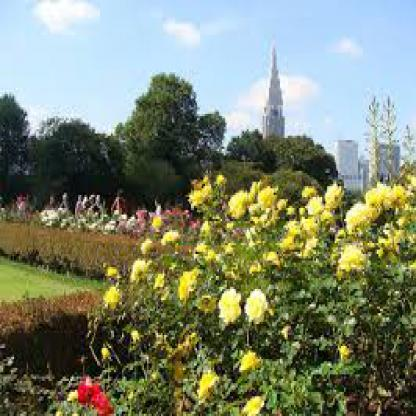Rose-Mawar: (114, 176, 416, 354), (189, 351, 267, 415), (54, 371, 131, 415)
